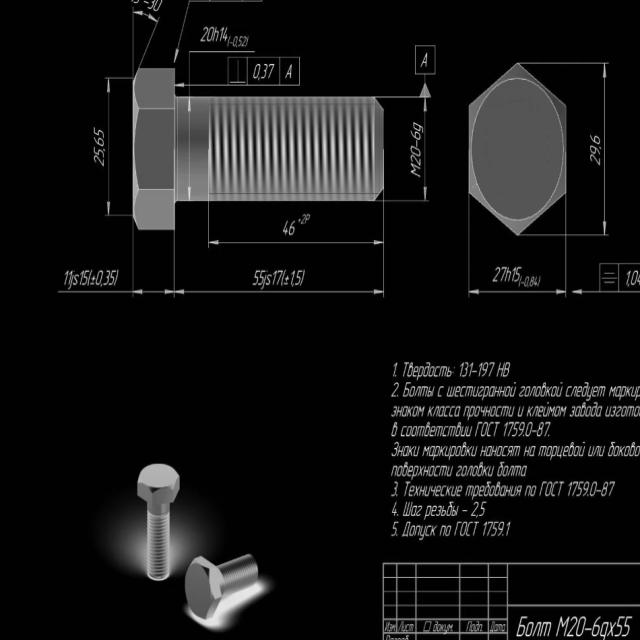marking_line: (58, 230, 384, 296), (173, 232, 385, 300), (207, 202, 387, 248), (569, 61, 610, 240), (465, 238, 567, 297), (387, 81, 430, 202), (176, 53, 301, 89), (102, 73, 132, 219), (130, 231, 176, 298), (571, 260, 640, 296), (129, 3, 160, 67), (173, 4, 191, 64)
numeric: (567, 614, 578, 637), (614, 615, 625, 637), (575, 617, 587, 637), (592, 617, 602, 640), (623, 616, 633, 637), (390, 381, 400, 398), (469, 501, 479, 517), (274, 269, 283, 286), (630, 269, 639, 286), (390, 520, 399, 537), (81, 269, 90, 285), (93, 155, 105, 167), (590, 154, 602, 166), (589, 133, 601, 145), (608, 480, 616, 498), (576, 480, 584, 498), (96, 268, 104, 285), (257, 269, 265, 286), (493, 265, 501, 282), (92, 136, 104, 147), (411, 154, 422, 166), (413, 121, 424, 133), (253, 63, 261, 79), (514, 265, 521, 283), (93, 127, 104, 138), (410, 145, 421, 156), (261, 62, 268, 79), (282, 219, 289, 236), (295, 269, 302, 286), (479, 500, 486, 517), (491, 520, 498, 537), (391, 480, 398, 497), (488, 361, 495, 378), (109, 270, 117, 284), (201, 26, 208, 42), (268, 63, 275, 79), (289, 221, 296, 237), (252, 269, 259, 285), (500, 266, 507, 282), (544, 421, 551, 437), (537, 421, 544, 437), (525, 422, 532, 438), (512, 421, 519, 437), (462, 362, 469, 378), (482, 361, 489, 377), (600, 481, 607, 497), (590, 481, 597, 497), (94, 147, 105, 157), (590, 145, 601, 155), (104, 268, 110, 286), (583, 480, 589, 498), (207, 26, 214, 41), (486, 521, 493, 536), (285, 64, 292, 79), (572, 480, 578, 497), (411, 130, 421, 140), (154, 0, 163, 11), (63, 269, 69, 285), (498, 522, 504, 538), (519, 421, 525, 437), (507, 421, 513, 437), (78, 270, 84, 285), (290, 270, 296, 285), (505, 521, 511, 536), (468, 362, 474, 377), (219, 25, 224, 42), (222, 27, 228, 41), (503, 421, 508, 437), (392, 362, 397, 378), (478, 362, 483, 378), (67, 270, 72, 285), (271, 270, 276, 285), (392, 501, 397, 516), (459, 362, 464, 377), (511, 267, 516, 281), (482, 522, 487, 536), (568, 482, 573, 496), (232, 36, 238, 47), (529, 275, 535, 286), (147, 1, 155, 9), (627, 270, 631, 285), (242, 36, 247, 47), (524, 276, 529, 286), (239, 35, 243, 46), (301, 213, 305, 224), (534, 276, 538, 287), (285, 273, 289, 283), (283, 281, 288, 286)
special_symbol: (305, 213, 310, 222)
